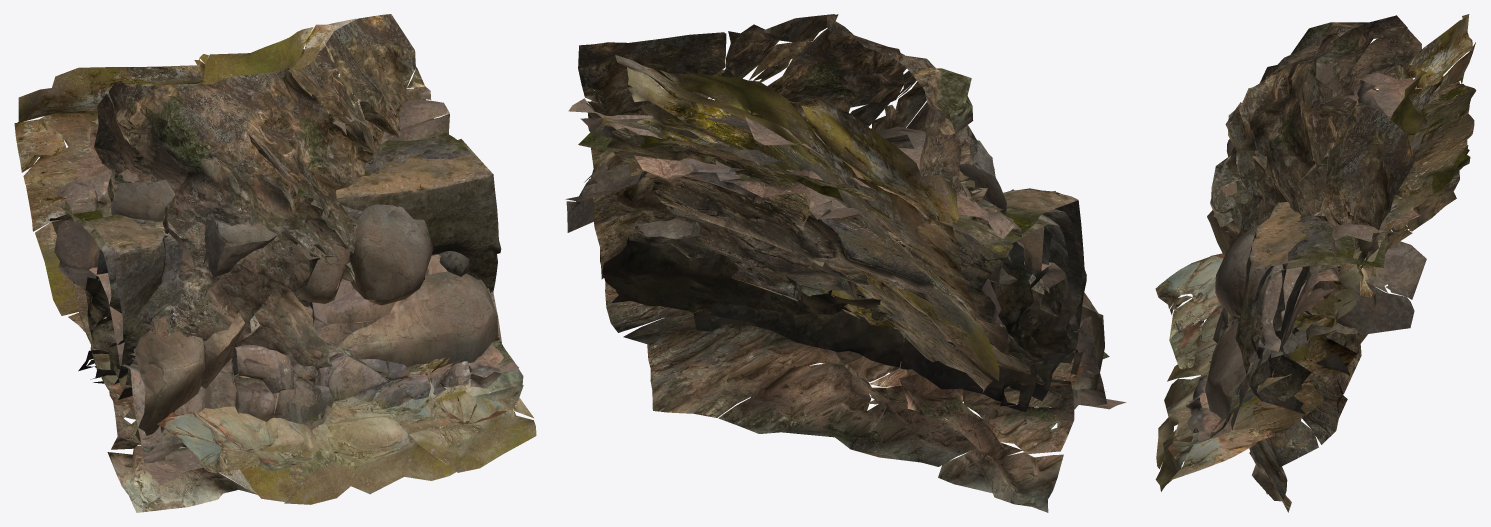
Rendered from cliffs.glb.
3 views of the same model, side by side, from view 1: azimuth 30°, elevation 25°; view 2: azimuth 150°, elevation 25°; view 3: azimuth 270°, elevation 25° (orthographic). The views are drawn at different scales.
Visible parts, largest first — view 1: cliff_mountainside, cliff_rock_face_02, cliff_namaqualand_cliff_01, cliff_namaqualand_cliff_02_1, cliff_coastal_cliff_01_1, cliff_namaqualand_cliff_02_0, cliff_rock_face_01, cliff_coastal_cliff_01_2, cliff_coastal_cliff_01_3, cliff_coastal_cliff_01_0; view 2: cliff_mountainside, cliff_rock_face_02, cliff_rock_face_01, cliff_coastal_cliff_01_0, cliff_coastal_cliff_01_3, cliff_namaqualand_cliff_01, cliff_namaqualand_cliff_02_1, cliff_namaqualand_cliff_02_0, cliff_coastal_cliff_01_2, cliff_coastal_cliff_01_1; view 3: cliff_mountainside, cliff_rock_face_02, cliff_rock_face_01, cliff_namaqualand_cliff_01, cliff_namaqualand_cliff_02_0, cliff_coastal_cliff_01_1, cliff_coastal_cliff_01_2, cliff_coastal_cliff_01_3, cliff_namaqualand_cliff_02_1, cliff_coastal_cliff_01_0.
Boxes of the visible parts, x1,y1,x2,y2 form: cliff_mountainside: [94, 14, 438, 512]; cliff_rock_face_02: [14, 18, 536, 504]; cliff_namaqualand_cliff_01: [110, 161, 498, 454]; cliff_namaqualand_cliff_02_1: [57, 105, 433, 485]; cliff_coastal_cliff_01_1: [66, 139, 501, 379]; cliff_namaqualand_cliff_02_0: [54, 86, 518, 409]; cliff_rock_face_01: [49, 49, 523, 473]; cliff_coastal_cliff_01_2: [88, 214, 169, 384]; cliff_coastal_cliff_01_3: [71, 132, 470, 399]; cliff_coastal_cliff_01_0: [59, 178, 482, 371]; cliff_mountainside: [578, 14, 1076, 512]; cliff_rock_face_02: [593, 55, 1008, 402]; cliff_rock_face_01: [607, 128, 1109, 386]; cliff_coastal_cliff_01_0: [709, 163, 1051, 412]; cliff_coastal_cliff_01_3: [600, 137, 1083, 374]; cliff_namaqualand_cliff_01: [565, 126, 1104, 390]; cliff_namaqualand_cliff_02_1: [580, 114, 1126, 409]; cliff_namaqualand_cliff_02_0: [568, 97, 1004, 327]; cliff_coastal_cliff_01_2: [578, 132, 1086, 363]; cliff_coastal_cliff_01_1: [681, 112, 1068, 400]; cliff_mountainside: [1210, 15, 1421, 512]; cliff_rock_face_02: [1155, 14, 1475, 491]; cliff_rock_face_01: [1155, 83, 1476, 459]; cliff_namaqualand_cliff_01: [1205, 116, 1426, 423]; cliff_namaqualand_cliff_02_0: [1186, 207, 1420, 440]; cliff_coastal_cliff_01_1: [1235, 202, 1313, 414]; cliff_coastal_cliff_01_2: [1260, 237, 1385, 405]; cliff_coastal_cliff_01_3: [1272, 215, 1355, 413]; cliff_namaqualand_cliff_02_1: [1191, 72, 1439, 362]; cliff_coastal_cliff_01_0: [1251, 90, 1378, 389].
Bounding box in the file's own units: 1 × 1.03 × 0.7764.
6 materials, 6 textured.
